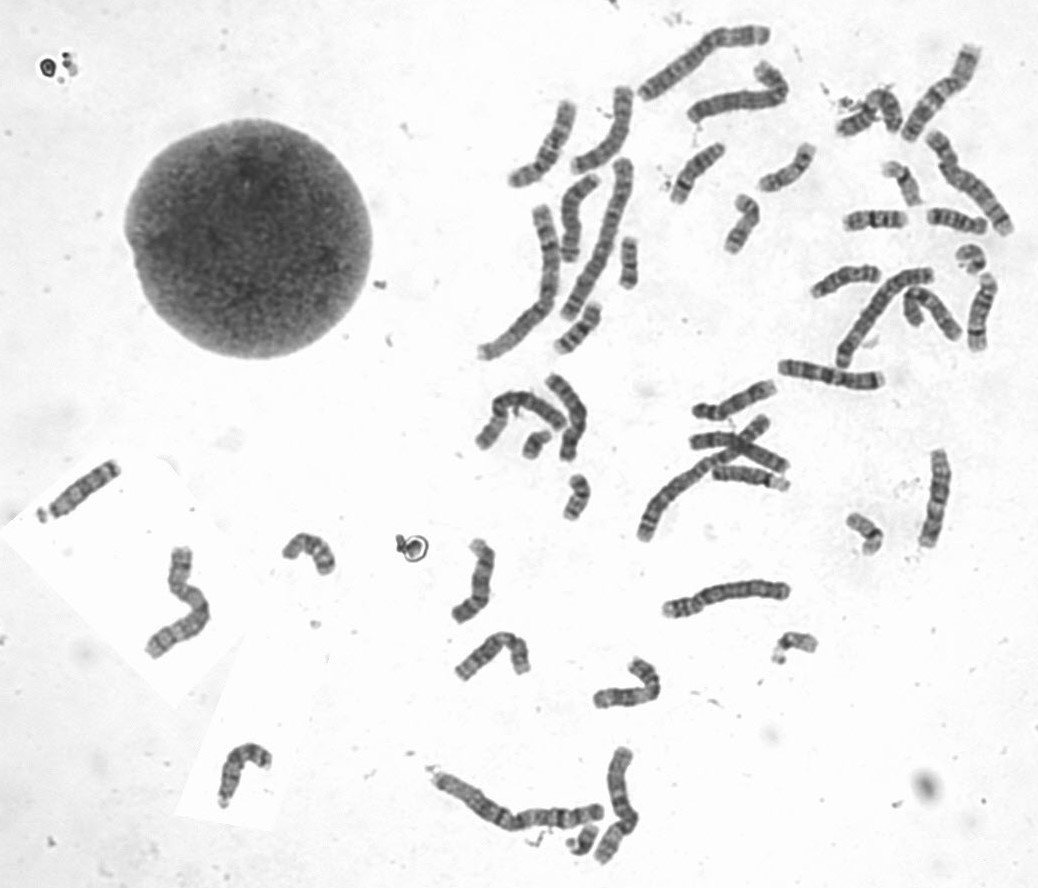chromosomes: (636, 410, 775, 551), (471, 199, 564, 366), (419, 757, 612, 834), (556, 150, 637, 327), (622, 23, 790, 102), (828, 259, 943, 371), (897, 38, 989, 151), (923, 125, 1012, 241), (137, 543, 211, 671), (644, 574, 798, 627), (503, 93, 582, 195), (563, 83, 641, 184), (29, 455, 124, 533), (685, 62, 796, 127), (467, 390, 565, 461), (589, 743, 642, 864), (824, 85, 915, 152), (209, 735, 281, 813), (445, 531, 499, 632), (664, 133, 732, 211), (683, 427, 793, 475), (449, 629, 533, 690), (771, 353, 890, 395), (685, 378, 785, 427), (913, 446, 957, 554), (558, 169, 604, 269), (589, 655, 664, 716), (754, 135, 822, 202), (898, 282, 965, 348), (544, 370, 585, 466), (550, 303, 615, 360), (706, 461, 800, 500), (806, 262, 887, 306), (719, 188, 765, 264), (964, 272, 1001, 363), (277, 527, 340, 580), (876, 158, 932, 213), (766, 623, 828, 671), (846, 503, 884, 562), (834, 207, 914, 235), (919, 204, 991, 235), (563, 470, 597, 534), (946, 239, 994, 279), (565, 817, 600, 862), (620, 230, 641, 295), (517, 429, 555, 464)
